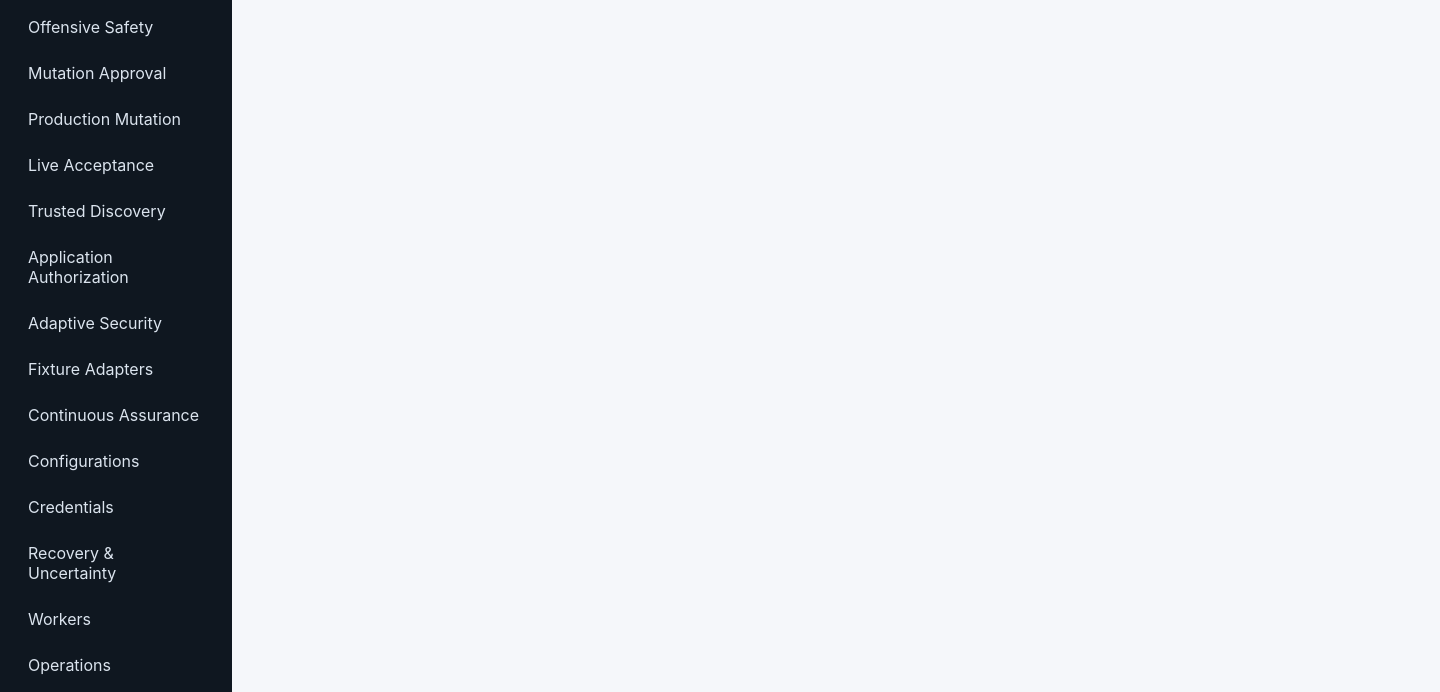
Test: RouteCairn dashboard UI › opens the dashboard-native adaptive security workspace
(page scrolled)
What coordinates should you click on to do the following:
click the button "Adaptive Security"
I would click on:
 (116, 323)
Its box is [16, 303, 216, 343].
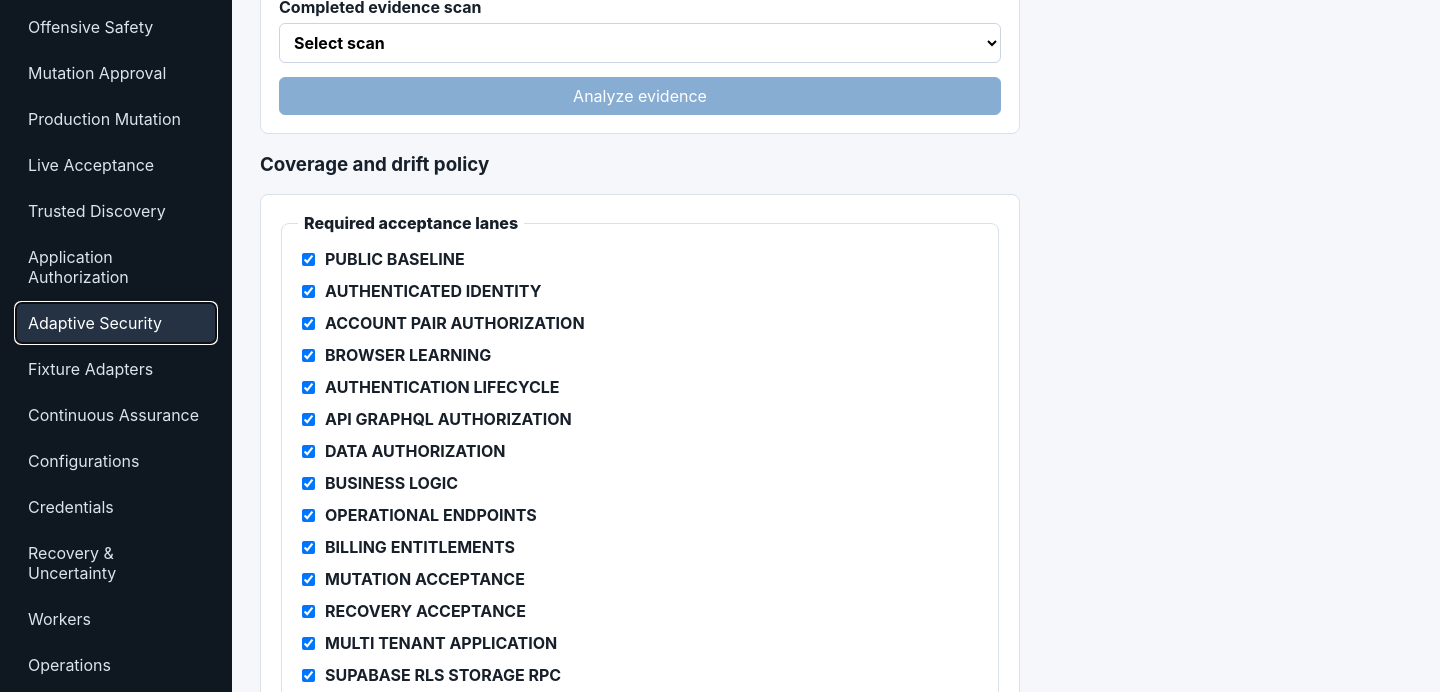
Expected: the button "Analyze evidence" is shown, [279, 77, 1001, 115]
